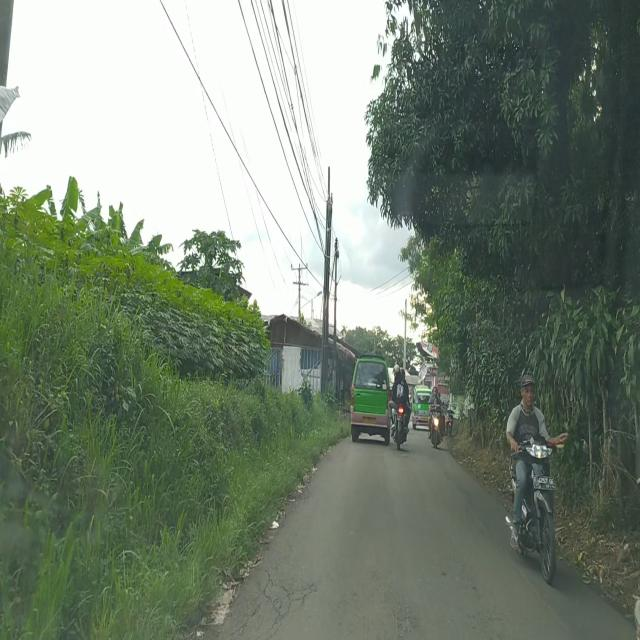Drain Hole: (233, 563, 326, 640)
